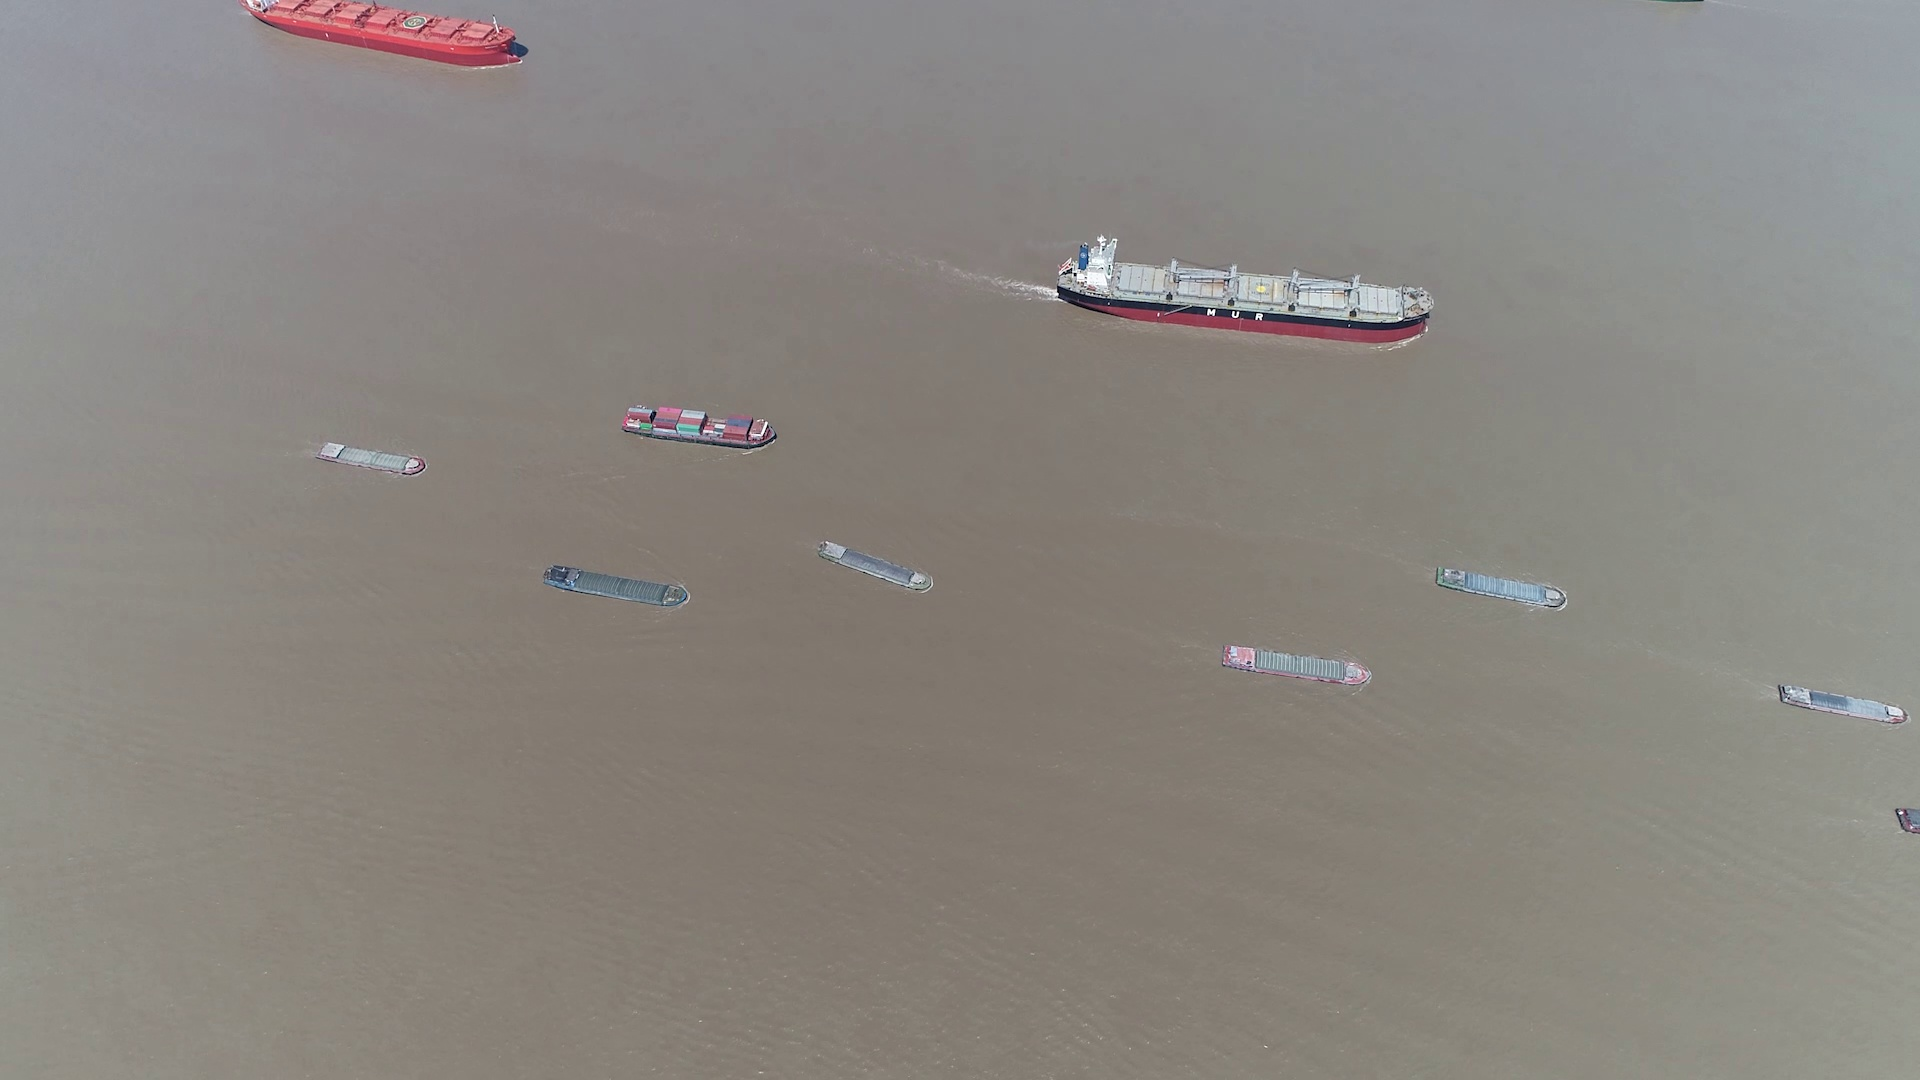ship: (1059, 240, 1437, 342), (245, 0, 525, 66), (541, 564, 691, 609), (1218, 644, 1371, 687), (622, 406, 778, 448), (1435, 566, 1569, 608), (818, 545, 931, 593), (1775, 684, 1908, 725), (315, 440, 429, 475), (1659, 0, 1701, 7)
